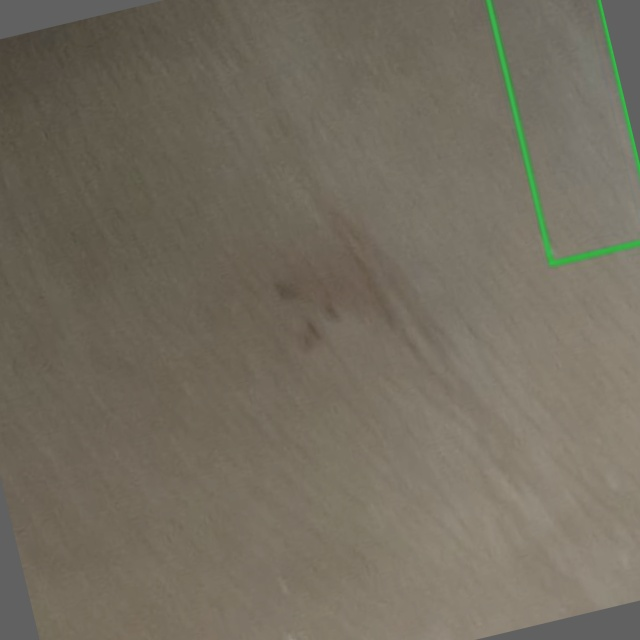Atopic Dermatitis: (488, 0, 639, 264)
